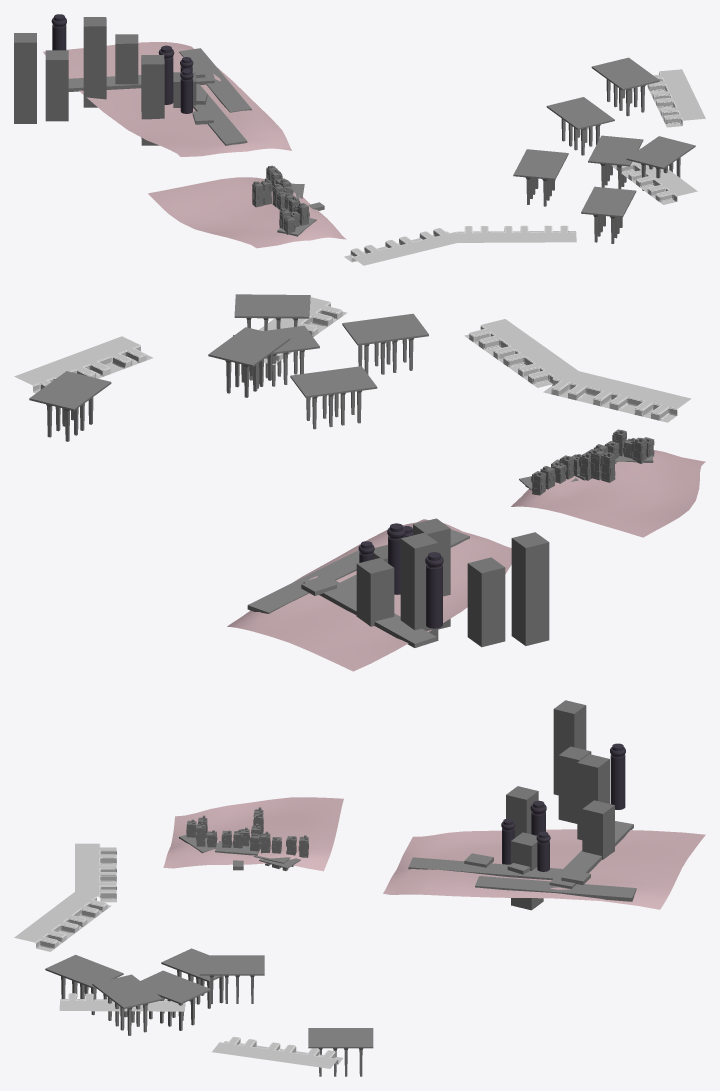
The model's file is CyberPort2.fbx.
3 views of the same model, one above another, from view 1: azimuth 30°, elevation 25°; view 2: azimuth 150°, elevation 25°; view 3: azimuth 270°, elevation 25° (orthographic). The views are drawn at different scales.
Parts seen in each view (by area): view 1: island.001, island, Cube.029, Cube.028, Grid.003, Cube.027, Cube.035, Cube.026, Grid, Cube.025, Grid.001, Cube.024 (+9 smaller); view 2: island.001, island, Cube.029, Cube.028, Grid, Grid.001, Grid.003, Cube.025, Cube.024, Cube.026, Cube.035, Cube.023 (+7 smaller); view 3: island.001, island, Cube.028, Cube.029, Grid.001, Cube.027, Grid, Cube.023, Grid.003, Cube.030, Cube.026, Cube.024 (+7 smaller).
Boxes of the visible parts, <box> form: island.001: <box>43,42,291,156</box>; island: <box>148,177,346,248</box>; Cube.029: <box>14,33,68,123</box>; Cube.028: <box>83,17,138,107</box>; Grid.003: <box>646,69,705,127</box>; Cube.027: <box>141,54,196,145</box>; Cube.035: <box>591,57,659,116</box>; Cube.026: <box>546,97,614,155</box>; Grid: <box>344,228,457,265</box>; Cube.025: <box>513,149,568,206</box>; Grid.001: <box>456,225,576,242</box>; Cube.024: <box>581,186,636,243</box>; island.001: <box>227,519,511,671</box>; island: <box>511,445,705,537</box>; Cube.029: <box>467,532,549,647</box>; Cube.028: <box>356,532,438,640</box>; Grid: <box>543,371,691,422</box>; Grid.001: <box>464,319,578,387</box>; Grid.003: <box>14,336,152,393</box>; Cube.025: <box>290,366,377,429</box>; Cube.024: <box>342,313,428,374</box>; Cube.026: <box>208,327,290,397</box>; Cube.035: <box>29,371,111,441</box>; Cube.023: <box>234,294,310,330</box>; island.001: <box>383,829,705,909</box>; island: <box>163,797,343,871</box>; Cube.028: <box>577,754,614,859</box>; Cube.029: <box>553,700,591,823</box>; Grid.001: <box>14,891,111,951</box>; Cube.027: <box>506,786,543,910</box>; Grid: <box>75,843,116,902</box>; Cube.023: <box>92,974,162,1035</box>; Grid.003: <box>212,1036,343,1068</box>; Cube.030: <box>475,876,636,901</box>; Cube.026: <box>199,955,264,1003</box>; Cube.024: <box>45,954,123,1015</box>.
Size of what is drawn, in the model's own units: 806 by 166 by 828.
